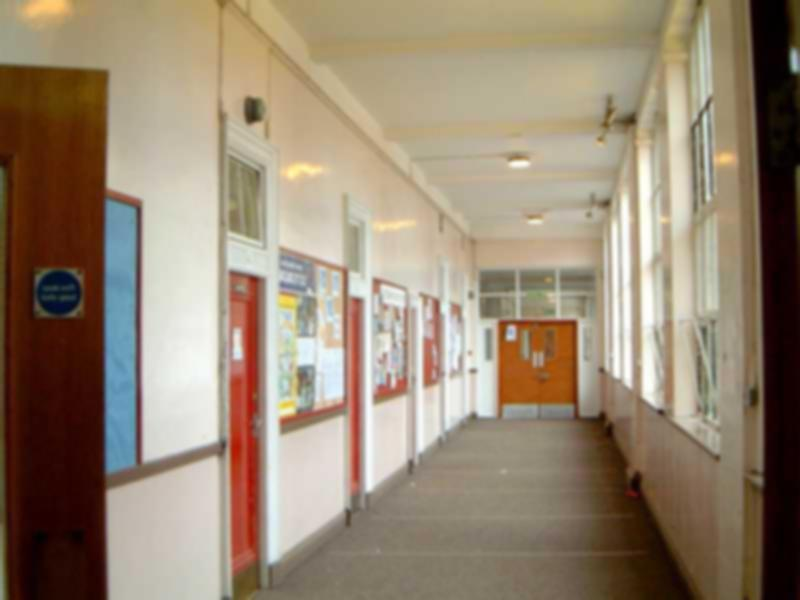Puerta: (3, 67, 113, 599), (224, 274, 270, 596), (345, 296, 365, 521)
